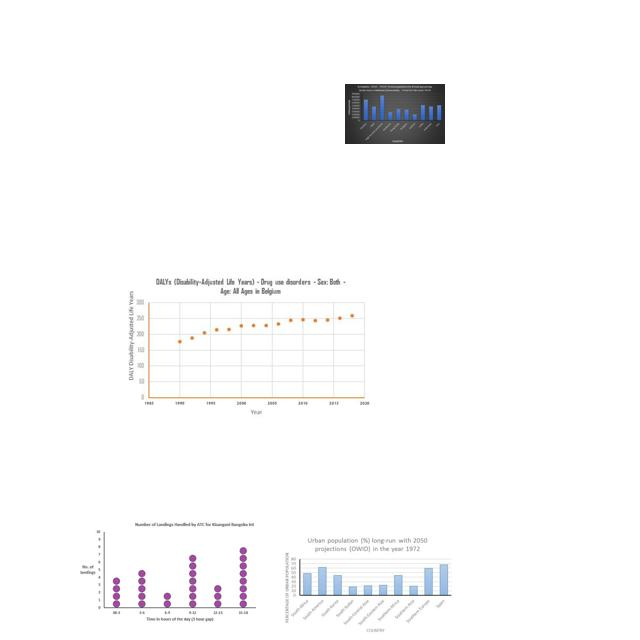Graph: (124, 273, 373, 418), (74, 518, 260, 626), (282, 536, 454, 635), (345, 84, 445, 144)
